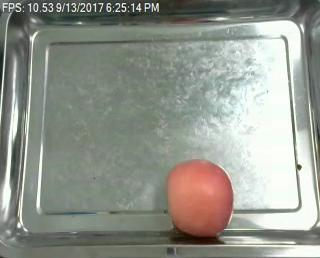apple: (165, 159, 235, 235)
